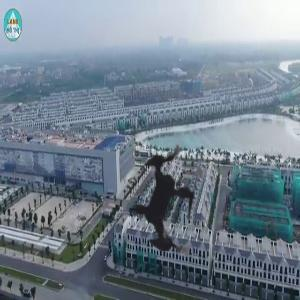drone: (81, 115, 250, 284)
